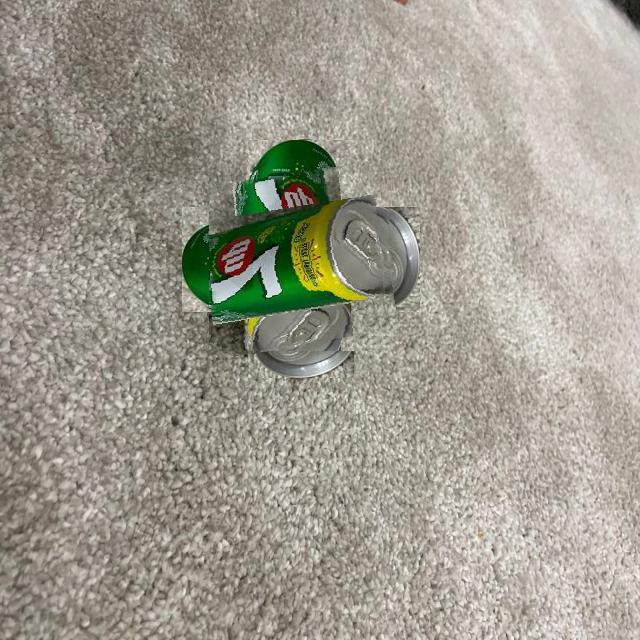recyclable: (210, 167, 393, 351)
